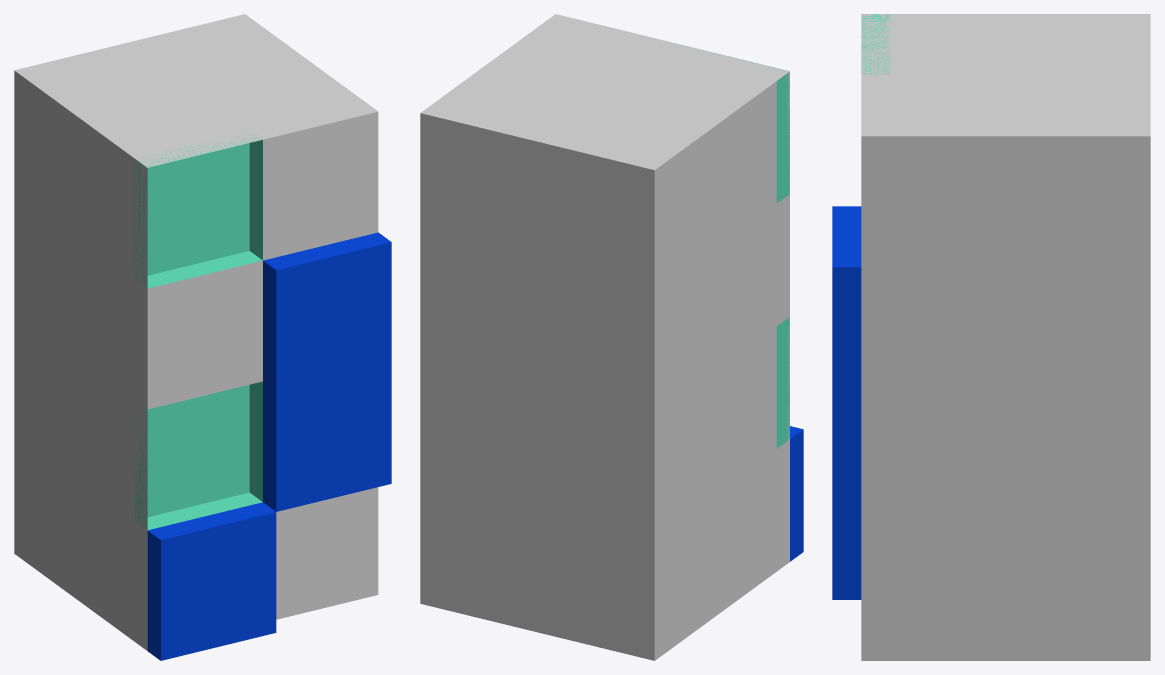
Rendered from Wall1_1x2.fbx.
3 views of the same model, side by side, from view 1: azimuth 30°, elevation 25°; view 2: azimuth 150°, elevation 25°; view 3: azimuth 270°, elevation 25° (orthographic). The views are drawn at different scales.
Parts seen in each view (by area): view 1: Wall 1x2; view 2: Wall 1x2; view 3: Wall 1x2.
Boxes of the visible parts, x1,y1,x2,y2 form: Wall 1x2: [14, 14, 391, 660]; Wall 1x2: [420, 14, 803, 660]; Wall 1x2: [832, 14, 1150, 660].
Size of the model in its own units: 100 by 200 by 110.
